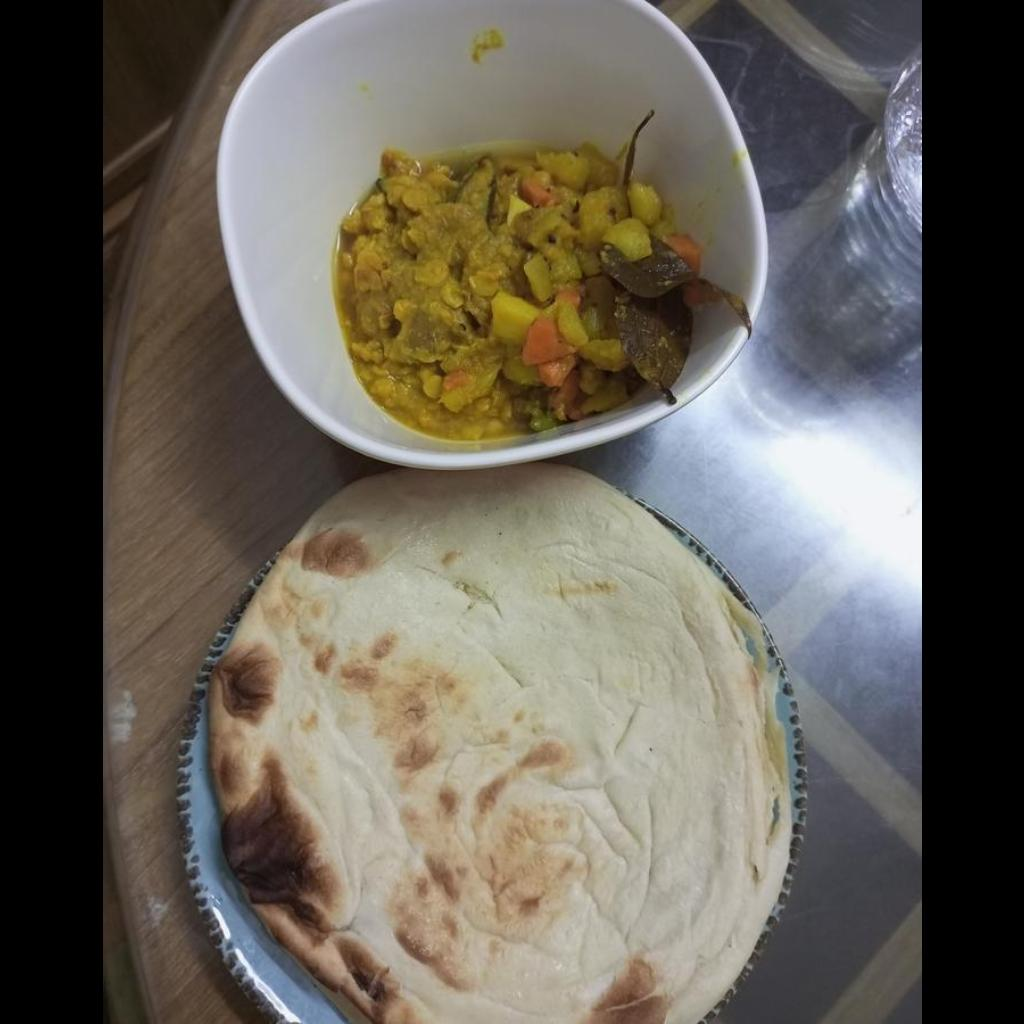ruti: (207, 471, 788, 1016)
vegetable: (343, 145, 674, 425)
